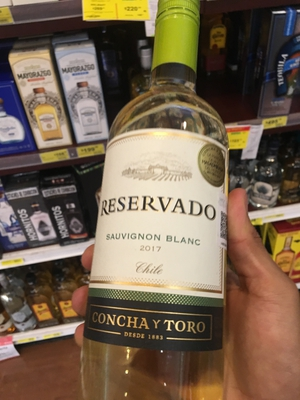reservado sauvignon blanc: (90, 15, 230, 400)
